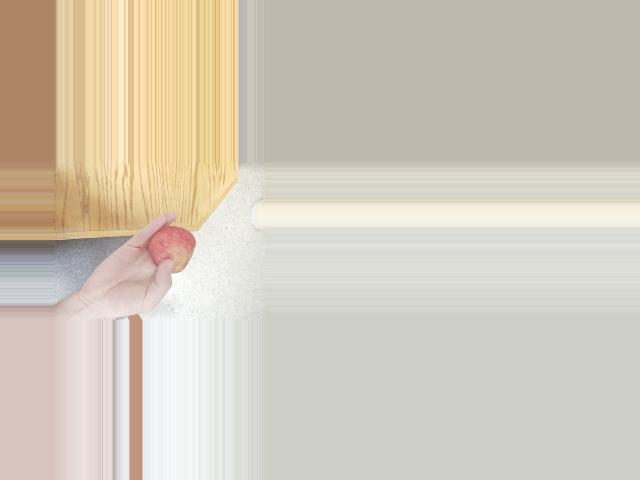apple: (145, 225, 197, 279)
